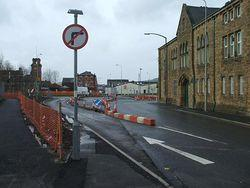no_right_turn: (61, 23, 87, 48)
